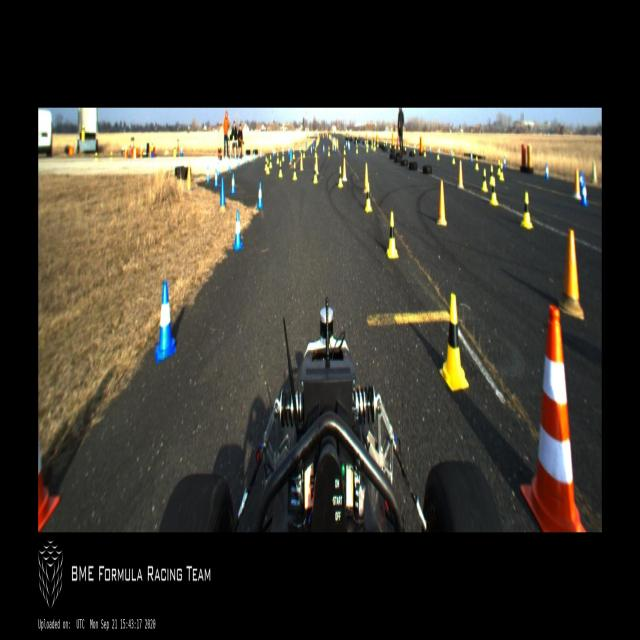blue_cone: (155, 282, 176, 364), (234, 210, 243, 250), (581, 182, 588, 205), (257, 182, 263, 208), (230, 173, 236, 194), (214, 169, 218, 186), (206, 166, 210, 182), (581, 177, 585, 193), (545, 164, 549, 178), (228, 158, 231, 172), (237, 154, 240, 167), (245, 152, 248, 165), (503, 156, 506, 169), (253, 150, 256, 161), (580, 172, 582, 188), (218, 161, 220, 176), (470, 150, 472, 162), (180, 146, 183, 154), (260, 150, 262, 158), (288, 147, 290, 155), (348, 142, 350, 150), (323, 145, 325, 152), (407, 142, 409, 148), (311, 144, 312, 154), (451, 148, 452, 157), (430, 144, 431, 153), (273, 149, 274, 156), (439, 148, 440, 154), (365, 139, 366, 145), (346, 140, 347, 146), (386, 141, 387, 146), (356, 140, 357, 145), (300, 147, 300, 154)
large_orange_cone: (520, 304, 588, 532)
yellow_cone: (439, 294, 469, 391), (386, 212, 398, 258), (520, 192, 534, 228), (490, 178, 498, 204), (365, 183, 372, 211), (482, 168, 488, 191), (489, 166, 495, 185), (499, 162, 504, 180), (339, 166, 343, 187), (292, 162, 296, 180), (314, 165, 318, 183), (278, 161, 282, 177), (497, 160, 501, 175), (475, 156, 479, 170), (266, 159, 270, 173), (452, 152, 456, 164), (269, 154, 272, 168), (110, 150, 113, 162), (173, 142, 176, 152), (82, 124, 85, 133), (265, 157, 267, 170), (277, 152, 279, 163), (282, 150, 284, 161), (328, 146, 330, 156), (344, 144, 346, 154), (437, 149, 439, 159), (424, 146, 426, 156), (95, 152, 97, 162), (303, 148, 305, 157), (314, 148, 316, 157), (293, 150, 295, 158), (356, 145, 358, 153), (373, 143, 375, 151), (366, 144, 368, 152), (371, 140, 373, 148), (367, 139, 369, 147), (151, 141, 153, 149), (377, 140, 379, 147), (398, 143, 400, 149), (394, 142, 396, 148), (405, 142, 406, 151), (414, 145, 415, 153), (390, 140, 391, 148), (374, 142, 375, 149), (384, 141, 385, 146)
